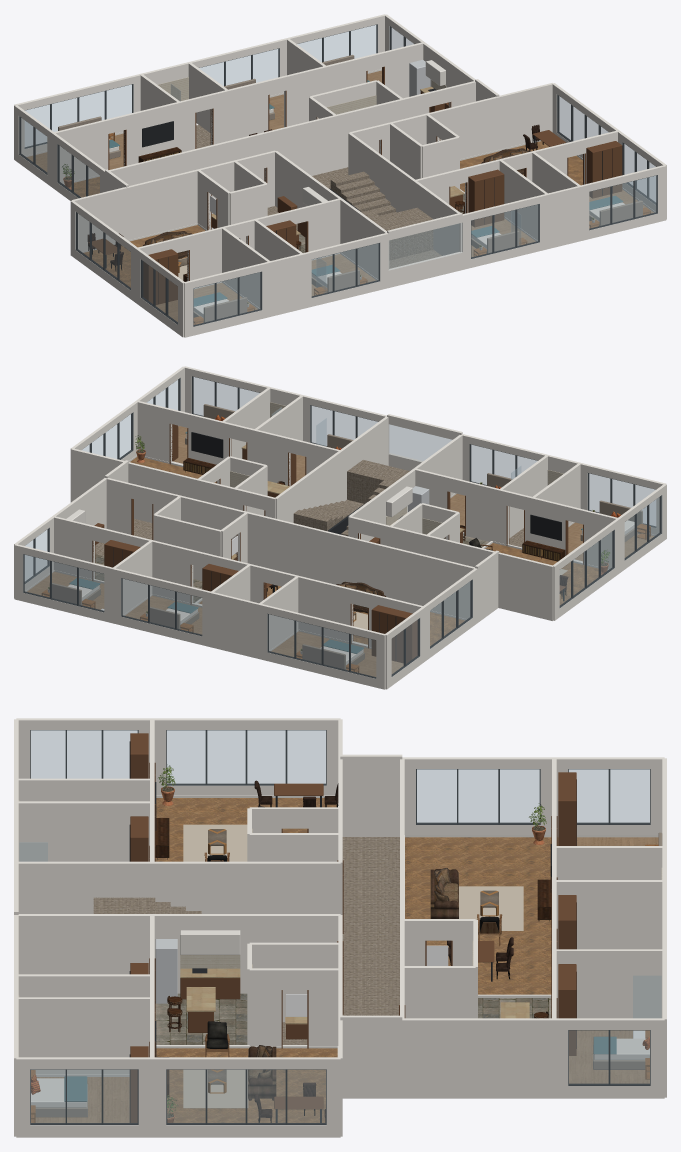
Rendered from typical-floor.glb.
3 views of the same model, one above another, from view 1: azimuth 30°, elevation 25°; view 2: azimuth 150°, elevation 25°; view 3: azimuth 270°, elevation 25° (orthographic). The views are drawn at different scales.
Parts seen in each view (by area): view 1: Typical floor Plaster, Typical floor Glass, Typical floor soft Walnut, Typical floor Frame, Typical floor Marble tiles, Typical floor Laminate, Typical floor soft Bed upholstery, Typical floor Herringbone parquet, Typical floor Walnut, Typical floor soft Throw fabric, Typical floor Bath wall tiles, Typical floor Cabinet matte (+4 smaller); view 2: Typical floor Plaster, Typical floor Glass, Typical floor Frame, Typical floor Laminate, Typical floor soft Walnut, Typical floor Marble tiles, Typical floor soft Bed upholstery, Typical floor Herringbone parquet, Typical floor Dark, Typical floor Walnut, Typical floor Cabinet matte, Typical floor Bath wall tiles (+3 smaller); view 3: Typical floor Plaster, Typical floor Glass, Typical floor Herringbone parquet, Typical floor Marble tiles, Typical floor soft Walnut, Typical floor Rug, Typical floor Frame, Typical floor Laminate, Typical floor Kitchen tiles, Typical floor Cabinet matte, Typical floor Marble counter, Typical floor soft Bed linen (+11 smaller).
Boxes of the visible parts, x1,y1,x2,y2 form: Typical floor Plaster: [14, 14, 666, 337]; Typical floor Glass: [19, 24, 657, 326]; Typical floor soft Walnut: [88, 91, 622, 304]; Typical floor Frame: [19, 24, 657, 326]; Typical floor Marble tiles: [196, 124, 441, 268]; Typical floor Laminate: [27, 70, 653, 321]; Typical floor soft Bed upholstery: [58, 55, 642, 322]; Typical floor Herringbone parquet: [70, 141, 582, 287]; Typical floor Walnut: [108, 66, 585, 280]; Typical floor soft Throw fabric: [109, 80, 623, 306]; Typical floor Bath wall tiles: [157, 77, 446, 114]; Typical floor Cabinet matte: [25, 69, 655, 308]; Typical floor Plaster: [14, 366, 666, 689]; Typical floor Glass: [23, 376, 661, 678]; Typical floor Frame: [23, 376, 661, 678]; Typical floor Laminate: [27, 426, 653, 676]; Typical floor soft Walnut: [94, 424, 565, 663]; Typical floor Marble tiles: [95, 460, 523, 555]; Typical floor soft Bed upholstery: [49, 404, 642, 669]; Typical floor Herringbone parquet: [130, 456, 601, 645]; Typical floor Dark: [113, 432, 564, 660]; Typical floor Walnut: [92, 423, 583, 648]; Typical floor Cabinet matte: [25, 425, 655, 651]; Typical floor Bath wall tiles: [230, 402, 563, 538]; Typical floor Plaster: [14, 718, 666, 1137]; Typical floor Glass: [19, 730, 661, 1124]; Typical floor Herringbone parquet: [155, 798, 551, 1122]; Typical floor Marble tiles: [93, 837, 399, 1044]; Typical floor soft Walnut: [130, 733, 576, 1122]; Typical floor Rug: [183, 824, 523, 1108]; Typical floor Frame: [30, 730, 650, 1124]; Typical floor Laminate: [35, 837, 658, 1122]; Typical floor Kitchen tiles: [155, 993, 551, 1044]; Typical floor Cabinet matte: [36, 795, 658, 1076]; Typical floor Marble counter: [180, 968, 529, 1024]; Typical floor soft Bed linen: [31, 1038, 649, 1107].
Bounding box in the file's own units: 26.15 × 2.9 × 21.15.
32 materials, 19 textured.
